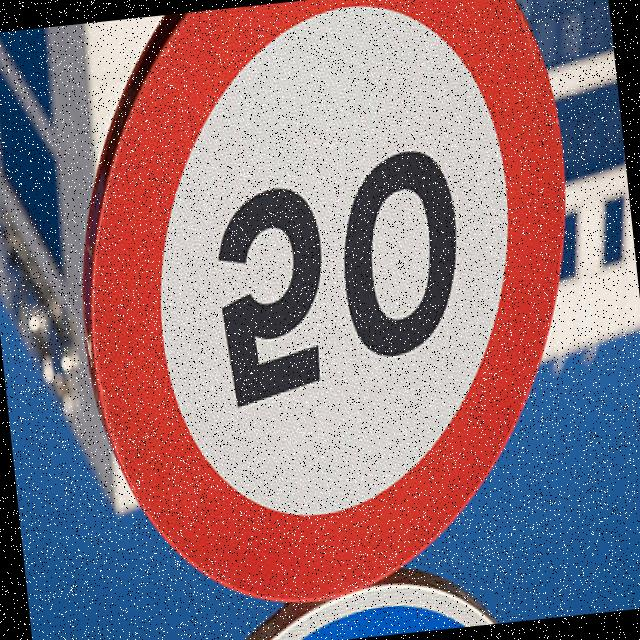speed_limit_50: (48, 0, 623, 635)
